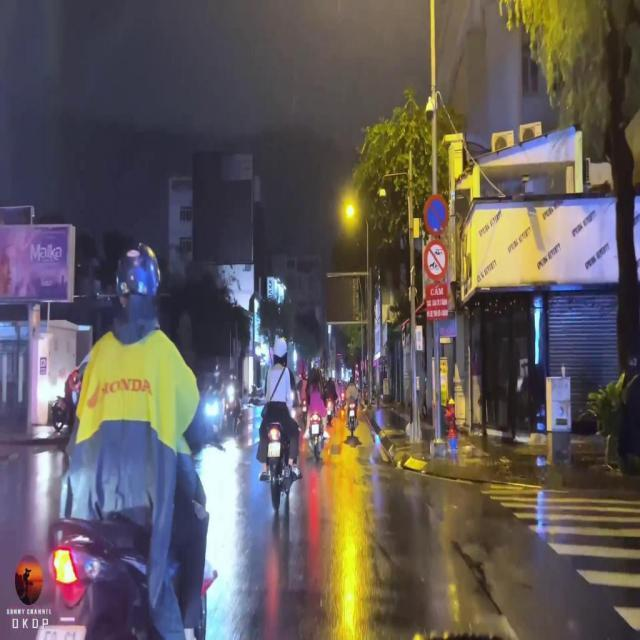131a-cam-do-xe: (422, 195, 450, 238)
